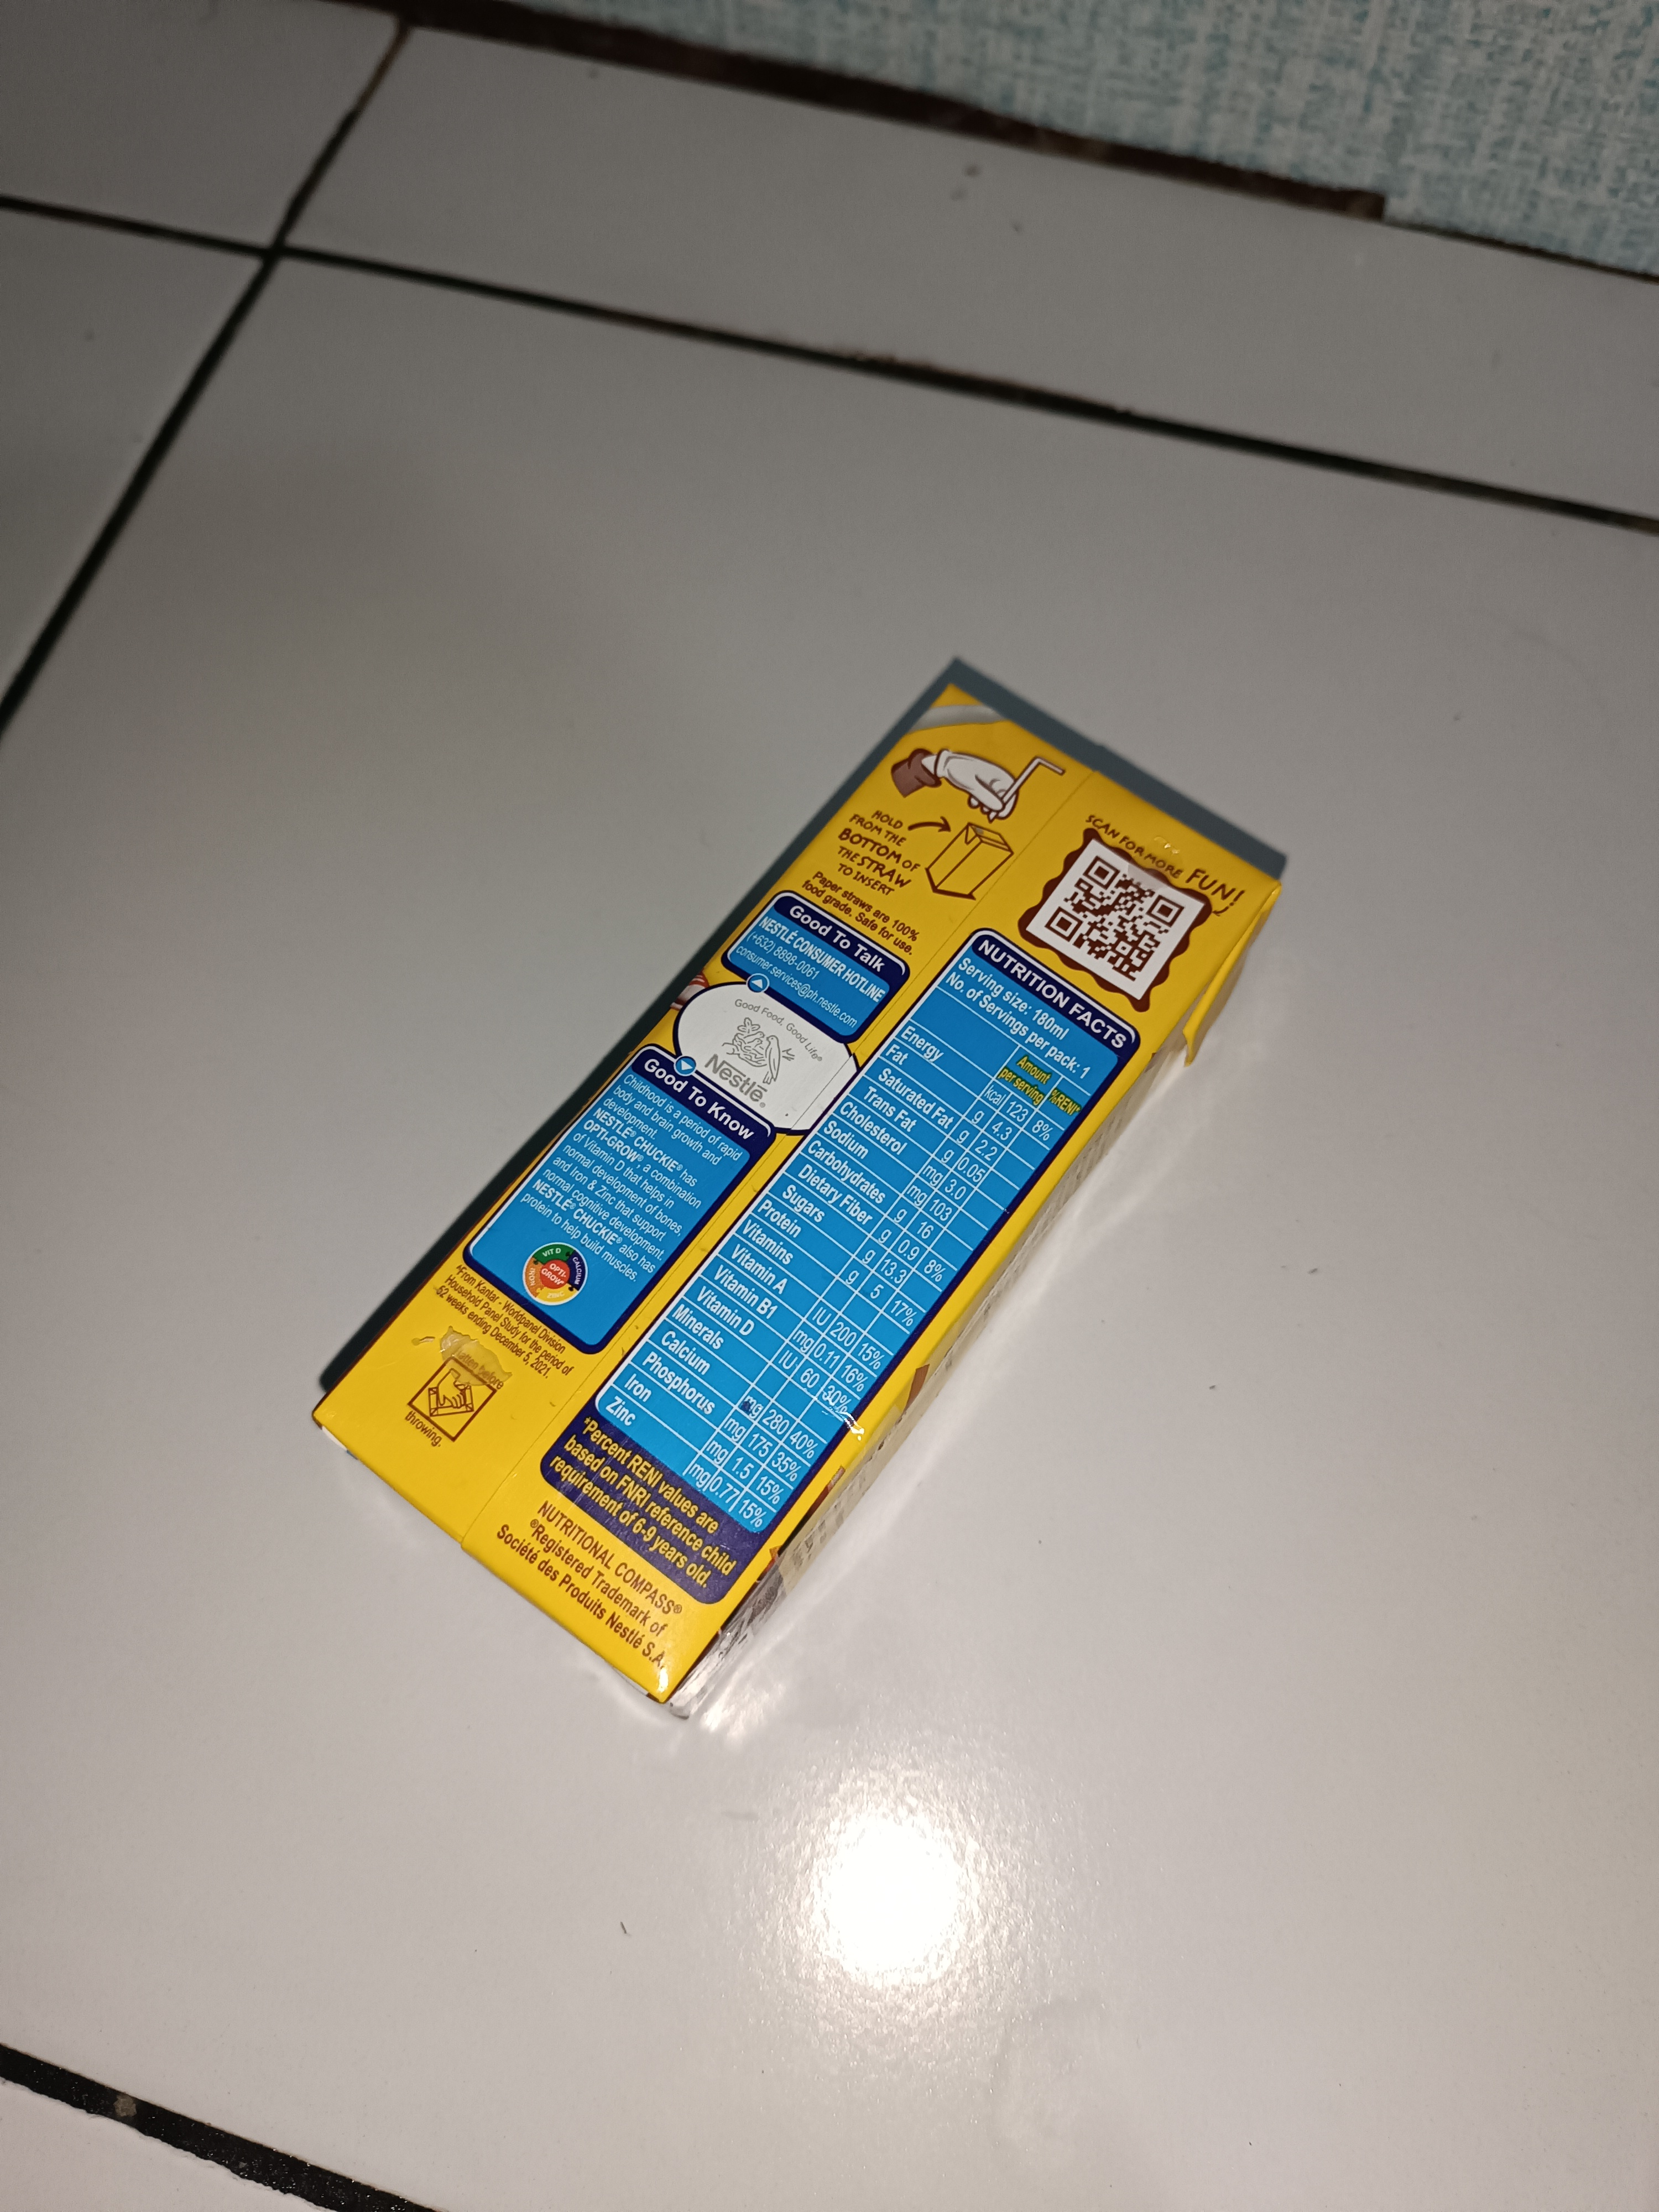Juice Box: (261, 542, 1283, 1888)
